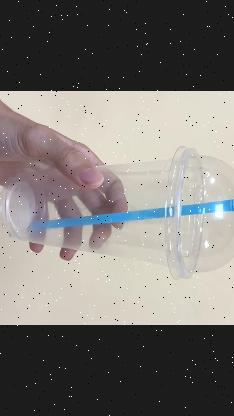Others: (0, 152, 234, 275)
